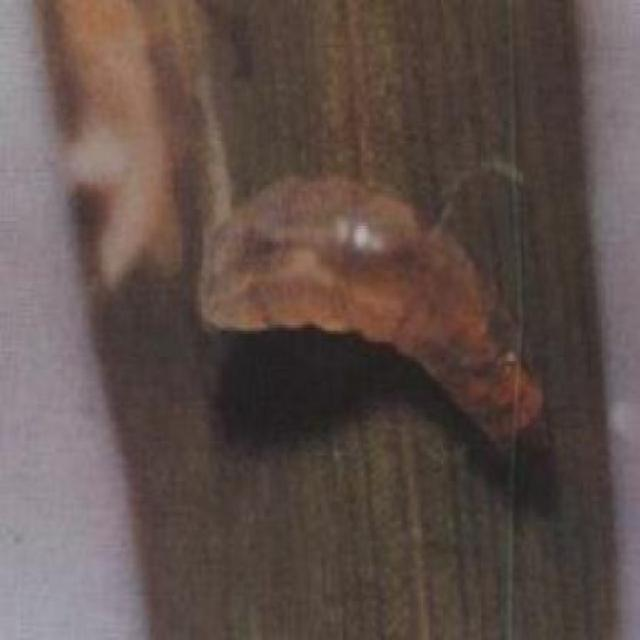whorl-maggot: (195, 177, 552, 455)
